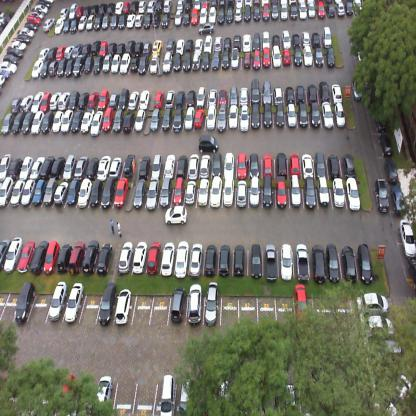car: (370, 340, 403, 372), (386, 372, 410, 415), (13, 280, 36, 324), (97, 282, 117, 326), (48, 279, 68, 322), (64, 281, 84, 322), (364, 316, 394, 343), (360, 291, 388, 319), (159, 372, 176, 416), (4, 235, 23, 273), (294, 240, 310, 283), (58, 374, 75, 414), (294, 282, 309, 327), (398, 219, 416, 256), (29, 239, 48, 274), (357, 243, 373, 284), (311, 242, 326, 285), (205, 280, 219, 326), (96, 374, 112, 414), (187, 281, 202, 323), (115, 285, 131, 324), (340, 243, 356, 282), (96, 241, 113, 277), (18, 238, 36, 272), (373, 176, 389, 214), (170, 285, 186, 323), (179, 378, 195, 415), (44, 238, 60, 275), (68, 240, 85, 274), (118, 239, 134, 275), (82, 238, 98, 274), (174, 240, 189, 278), (132, 241, 148, 276), (100, 176, 117, 208), (326, 241, 339, 282), (264, 242, 278, 280), (283, 382, 299, 415), (346, 176, 361, 210), (218, 379, 232, 415), (146, 241, 161, 274), (189, 242, 203, 277), (164, 206, 188, 226), (114, 176, 129, 208), (89, 178, 105, 208), (0, 175, 14, 209), (146, 176, 160, 210), (161, 242, 175, 275), (280, 244, 292, 282), (332, 178, 347, 208), (133, 177, 147, 209), (250, 242, 262, 279), (204, 243, 217, 277), (159, 177, 173, 208), (78, 178, 92, 209), (233, 242, 245, 278), (303, 177, 316, 210), (392, 186, 406, 216), (57, 242, 71, 272), (289, 176, 302, 208), (29, 154, 45, 180), (197, 381, 209, 415), (62, 153, 76, 181), (21, 180, 36, 206), (197, 177, 210, 207), (80, 108, 95, 134), (30, 110, 45, 136), (198, 134, 218, 153), (90, 109, 104, 136), (173, 176, 186, 205), (85, 155, 100, 180), (210, 178, 222, 209), (39, 155, 55, 178), (11, 180, 25, 206), (317, 178, 330, 206), (97, 154, 111, 180), (43, 176, 56, 204), (219, 243, 230, 276), (0, 236, 11, 269), (275, 178, 287, 208), (249, 177, 261, 207), (222, 178, 234, 208), (262, 175, 273, 207), (1, 112, 17, 134), (33, 179, 46, 206), (66, 179, 79, 206), (20, 155, 34, 180), (12, 110, 26, 135), (0, 152, 12, 181), (314, 150, 326, 179), (236, 179, 248, 208), (378, 133, 393, 156), (30, 89, 45, 112), (385, 158, 398, 184), (321, 102, 334, 128), (60, 108, 73, 134), (248, 150, 260, 178), (184, 104, 196, 132), (70, 110, 84, 134), (41, 110, 55, 134), (237, 152, 248, 182), (224, 150, 235, 180), (74, 155, 89, 177), (217, 102, 228, 131), (342, 150, 354, 176), (328, 153, 340, 179), (199, 153, 212, 177), (163, 152, 176, 176), (138, 154, 151, 178), (334, 102, 346, 128), (309, 102, 321, 128), (297, 102, 309, 128), (161, 107, 174, 131), (102, 107, 114, 133), (321, 24, 333, 50), (109, 154, 123, 176), (51, 155, 65, 177), (54, 180, 68, 202), (250, 102, 261, 130), (21, 112, 35, 134), (301, 152, 313, 177), (123, 153, 136, 176), (123, 110, 136, 133), (51, 110, 64, 133), (210, 154, 222, 178), (134, 109, 146, 133), (188, 152, 199, 178), (176, 154, 189, 176), (151, 152, 162, 178), (8, 157, 22, 177), (263, 101, 273, 129), (275, 152, 287, 175), (172, 108, 184, 131), (148, 52, 160, 75), (206, 105, 217, 130), (138, 87, 151, 108), (250, 76, 260, 103), (72, 57, 86, 76), (150, 109, 162, 131), (112, 109, 123, 133), (271, 44, 282, 68), (127, 90, 140, 110), (137, 54, 150, 74), (289, 151, 300, 174), (240, 104, 249, 132), (118, 87, 130, 108), (286, 103, 296, 128), (31, 60, 44, 79), (319, 79, 330, 101), (263, 151, 273, 175), (186, 179, 196, 203), (193, 108, 205, 128), (154, 89, 166, 109), (68, 88, 80, 108), (57, 90, 69, 110), (49, 90, 61, 110), (40, 90, 52, 110), (198, 21, 214, 36), (275, 102, 284, 128), (20, 94, 33, 112), (165, 86, 176, 107), (262, 80, 272, 103), (196, 86, 206, 109), (229, 105, 238, 130), (42, 16, 55, 33), (0, 61, 17, 74), (98, 87, 109, 107), (282, 28, 292, 50), (182, 49, 192, 71), (64, 56, 75, 76), (10, 95, 22, 113), (39, 60, 51, 78), (48, 58, 60, 76), (314, 47, 324, 68), (303, 46, 313, 67), (221, 49, 231, 70), (162, 53, 172, 74), (120, 53, 130, 74), (88, 90, 99, 109), (110, 53, 121, 72), (231, 47, 240, 70), (129, 55, 141, 72), (252, 49, 262, 69), (242, 32, 252, 52), (242, 50, 252, 70), (91, 36, 101, 56), (306, 83, 317, 101), (207, 88, 218, 106), (175, 90, 186, 108), (175, 36, 186, 54), (133, 40, 144, 58), (92, 55, 103, 73), (143, 11, 154, 29), (185, 90, 197, 106), (72, 42, 84, 58), (55, 45, 67, 61), (56, 60, 68, 76), (2, 53, 18, 65), (26, 13, 42, 25), (218, 87, 228, 106), (78, 90, 88, 109), (173, 51, 183, 70), (102, 53, 112, 72), (354, 0, 364, 19), (293, 46, 302, 67), (7, 48, 24, 59), (239, 86, 249, 104), (301, 29, 311, 47), (282, 48, 292, 66), (212, 50, 221, 70), (204, 32, 213, 52), (81, 43, 93, 58), (38, 45, 50, 60), (93, 12, 103, 30), (109, 12, 119, 30), (109, 92, 120, 108), (262, 45, 270, 67), (47, 44, 58, 60), (208, 6, 218, 23), (152, 38, 163, 53), (332, 82, 341, 100), (296, 83, 305, 101), (229, 86, 238, 104), (192, 52, 201, 70), (162, 11, 171, 29), (316, 0, 325, 18), (327, 48, 335, 68), (311, 30, 321, 46), (262, 30, 270, 50), (98, 40, 108, 56), (69, 18, 79, 34), (152, 13, 162, 29), (325, 2, 335, 18), (64, 44, 75, 58), (86, 14, 95, 31), (243, 4, 252, 21), (286, 84, 294, 103), (202, 51, 210, 70), (290, 3, 298, 22), (299, 2, 307, 21), (273, 85, 283, 100), (166, 37, 176, 52), (84, 56, 94, 71), (16, 34, 31, 44), (78, 15, 88, 30), (101, 14, 111, 29), (117, 14, 127, 29), (134, 14, 144, 29), (224, 35, 233, 51), (68, 2, 77, 18), (199, 7, 207, 25), (218, 6, 226, 24), (262, 3, 270, 21), (280, 2, 288, 20), (307, 1, 315, 19), (58, 5, 69, 18), (184, 37, 194, 51), (142, 42, 152, 56), (126, 38, 136, 52), (20, 28, 34, 38), (126, 13, 136, 27), (174, 10, 182, 27), (190, 9, 198, 26), (226, 6, 234, 23), (194, 37, 203, 52), (253, 31, 260, 50), (116, 41, 126, 54), (0, 68, 10, 81), (35, 3, 48, 13), (233, 34, 241, 50), (214, 34, 222, 50), (182, 10, 190, 26), (253, 6, 261, 22), (12, 41, 26, 50), (75, 4, 84, 18), (272, 2, 279, 20), (346, 0, 353, 18), (292, 31, 300, 46), (54, 18, 62, 33), (62, 18, 70, 33), (336, 1, 344, 16), (107, 42, 116, 55), (32, 9, 45, 18), (129, 0, 138, 13), (272, 31, 280, 45), (235, 6, 242, 22), (38, 0, 51, 8), (147, 0, 157, 10), (24, 22, 36, 30), (122, 0, 130, 12), (138, 0, 146, 12), (82, 5, 91, 15), (106, 2, 115, 12), (182, 0, 192, 9), (164, 0, 172, 11), (91, 5, 99, 15), (99, 3, 107, 13), (114, 2, 122, 12), (154, 0, 162, 10), (176, 0, 184, 8)
